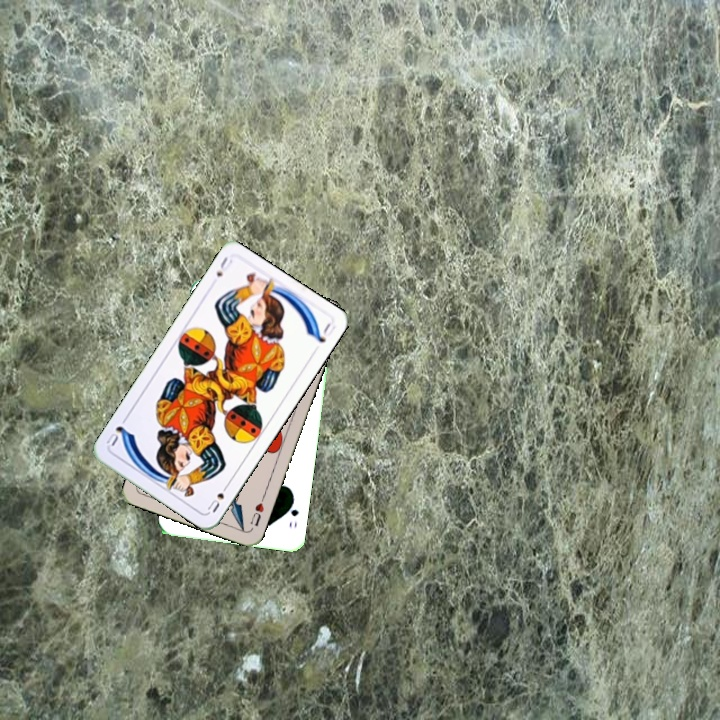GO: (284, 495, 301, 531)
HU: (246, 492, 267, 529)
SU: (203, 479, 232, 515), (212, 253, 230, 279)
